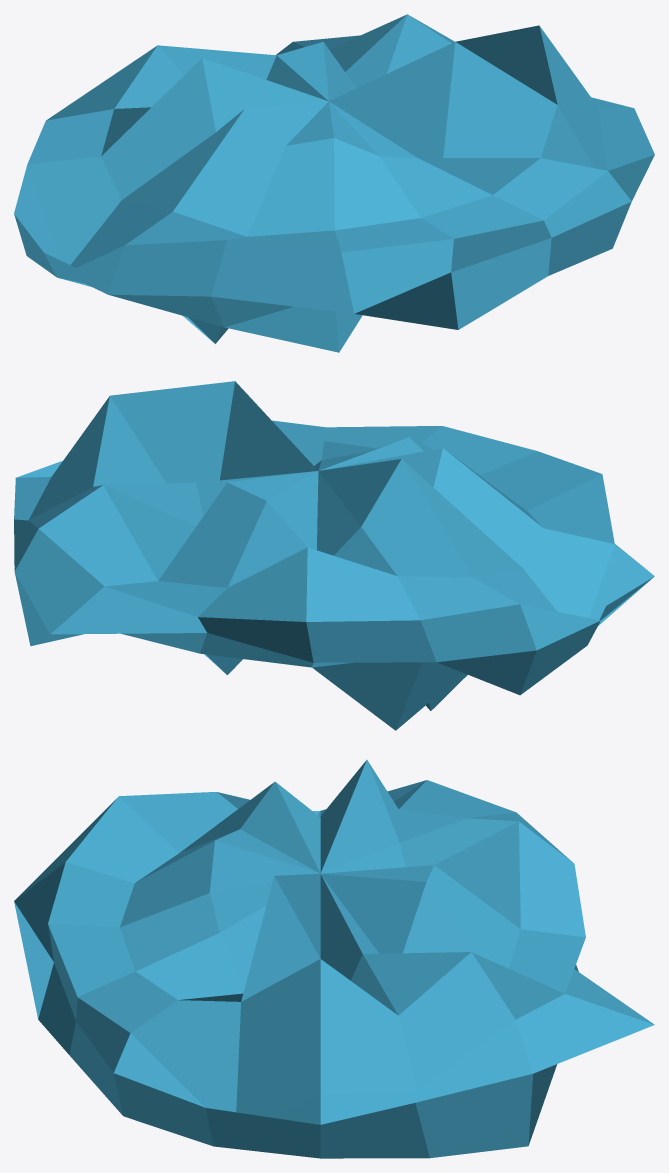
Rendered from Cloud.fbx.
The picture shows the model from 3 angles, top to bottom: view 1: azimuth 30°, elevation 25°; view 2: azimuth 150°, elevation 25°; view 3: azimuth 270°, elevation 25°; orthographic projection. The views are drawn at different scales.
Visible parts, largest first — view 1: clouds; view 2: clouds; view 3: clouds.
Boxes of the visible parts, x1,y1,x2,y2 form: clouds: [14, 14, 654, 352]; clouds: [14, 381, 654, 730]; clouds: [14, 760, 654, 1158].
Bounding box in the file's own units: 1392 × 605 × 1201.
